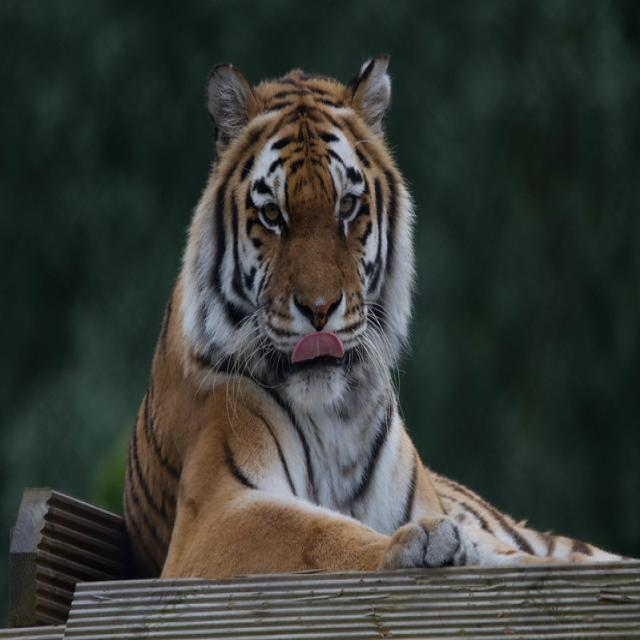Tiger: (123, 42, 542, 581)
